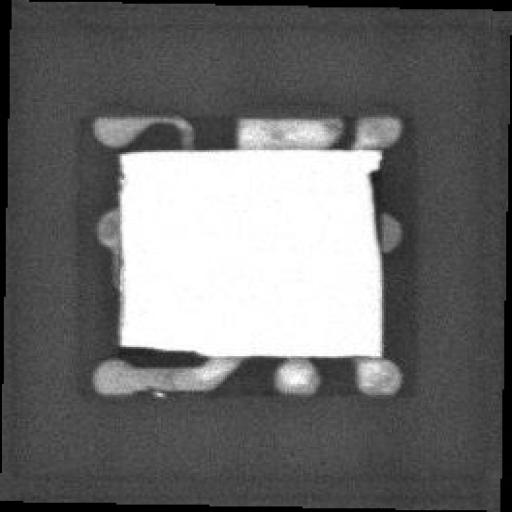DIE_BROKEN: (365, 156, 380, 258), (116, 342, 202, 356)
